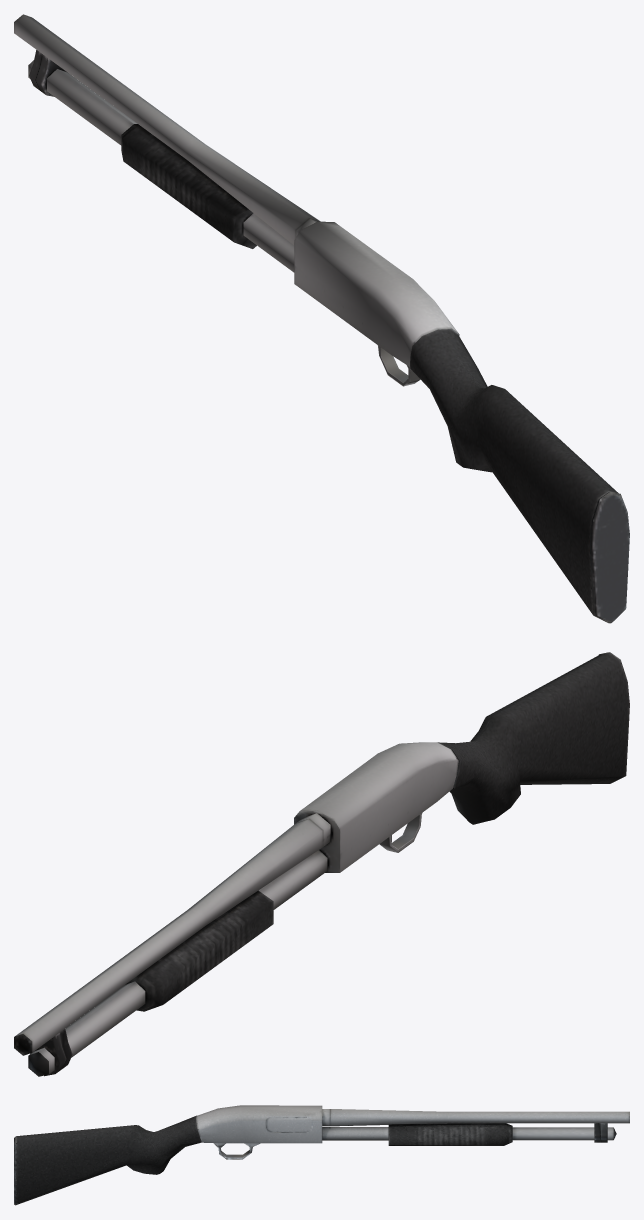
The model's file is Remington_Plastic.fbx.
3 renders of one model, top to bottom at view 1: azimuth 30°, elevation 25°; view 2: azimuth 150°, elevation 25°; view 3: azimuth 270°, elevation 25°, orthographic. The views are drawn at different scales.
Visible parts, largest first — view 1: Remington_Plastic; view 2: Remington_Plastic; view 3: Remington_Plastic.
Part boxes in pixels (x1=…): Remington_Plastic: x1=14, y1=14, x2=629, y2=623; Remington_Plastic: x1=14, y1=652, x2=629, y2=1076; Remington_Plastic: x1=14, y1=1105, x2=629, y2=1205.
Size of the model in its own units: 0.0281 by 0.6064 by 0.1064.
